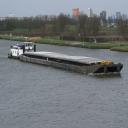tugboat: (8, 37, 38, 63)
